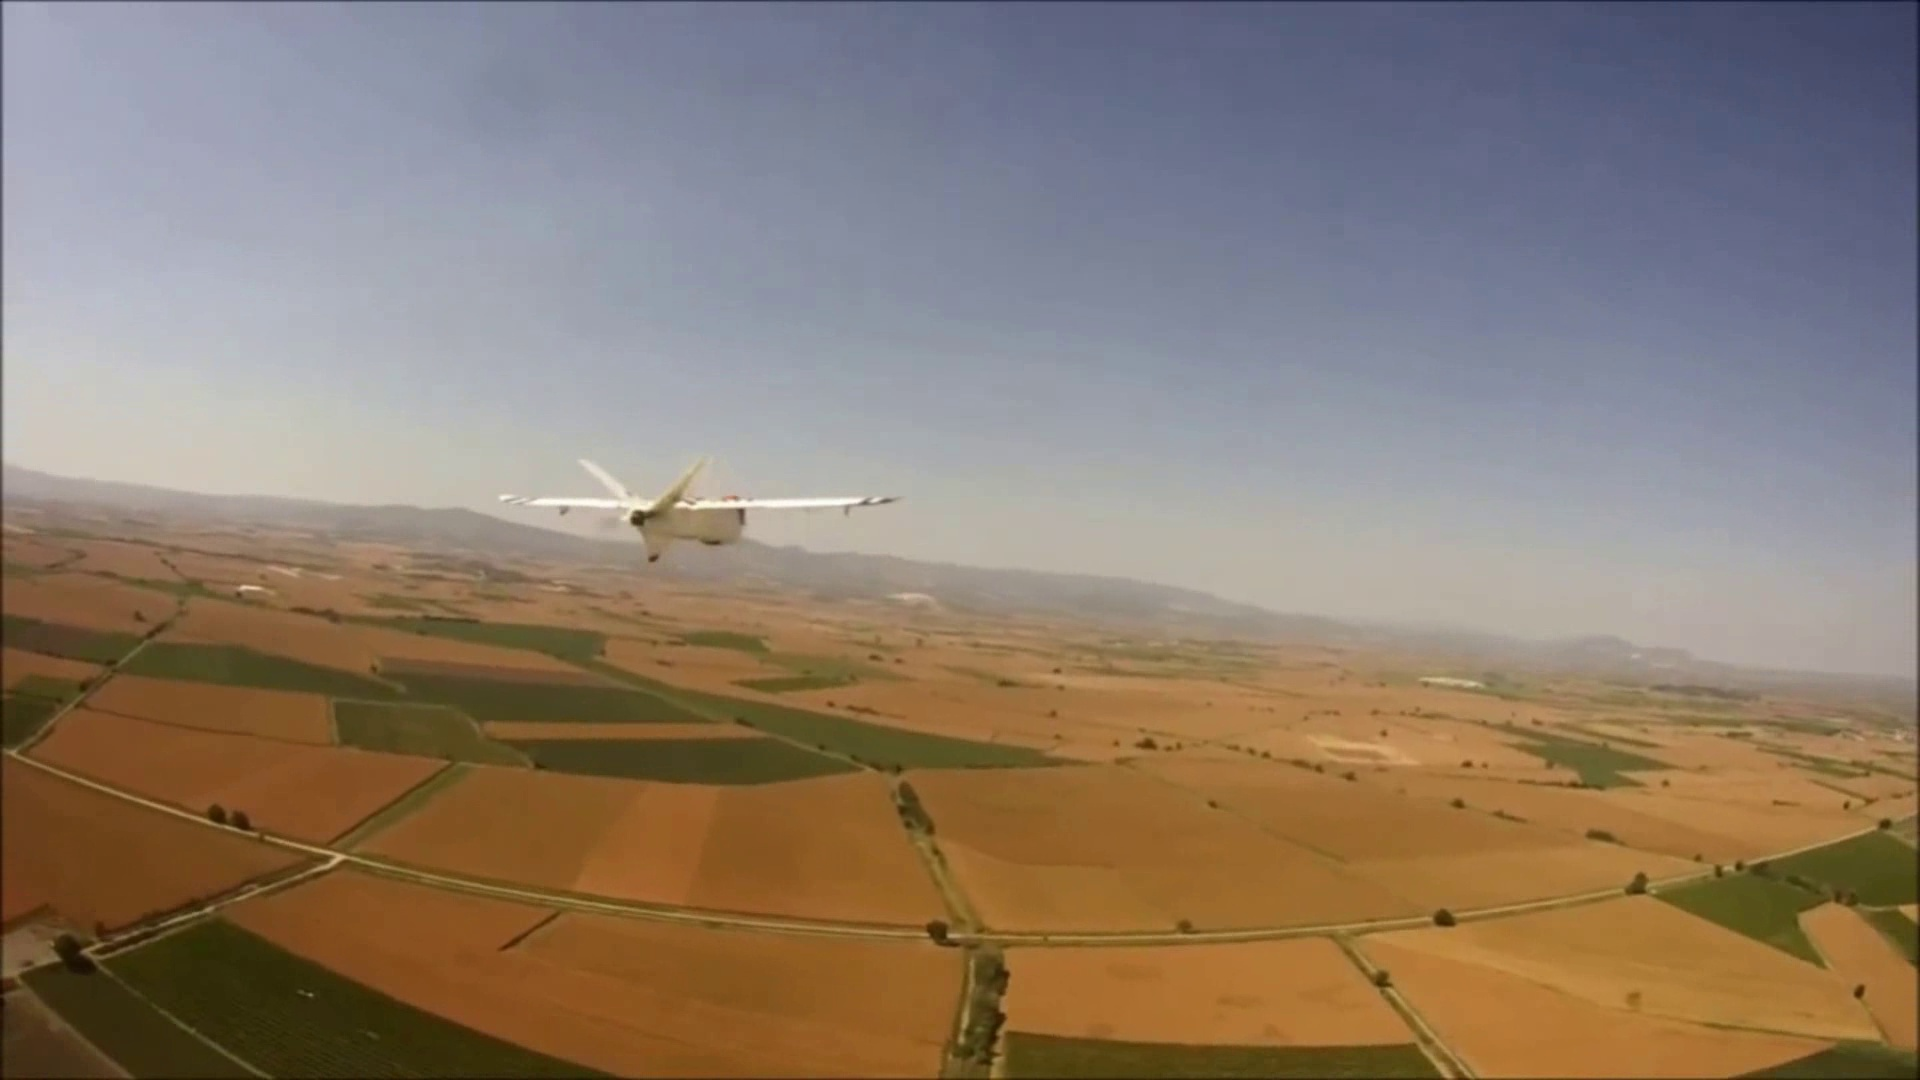airplane: (493, 452, 902, 564)
